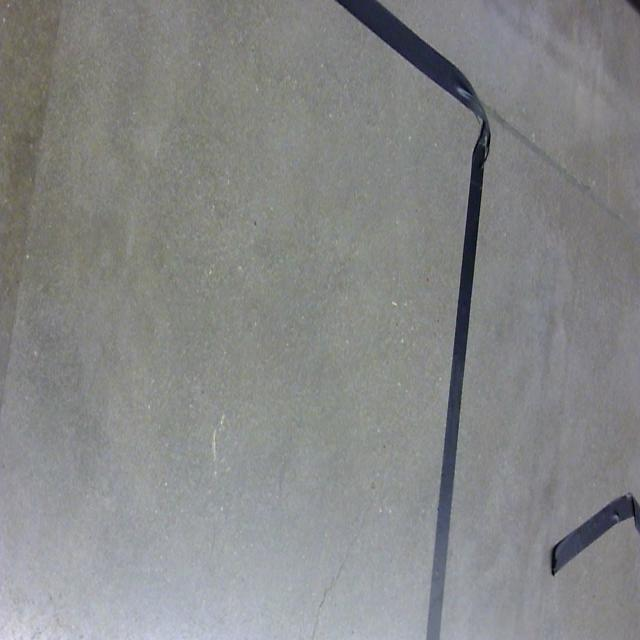tape: (311, 0, 510, 640), (541, 471, 640, 586)
